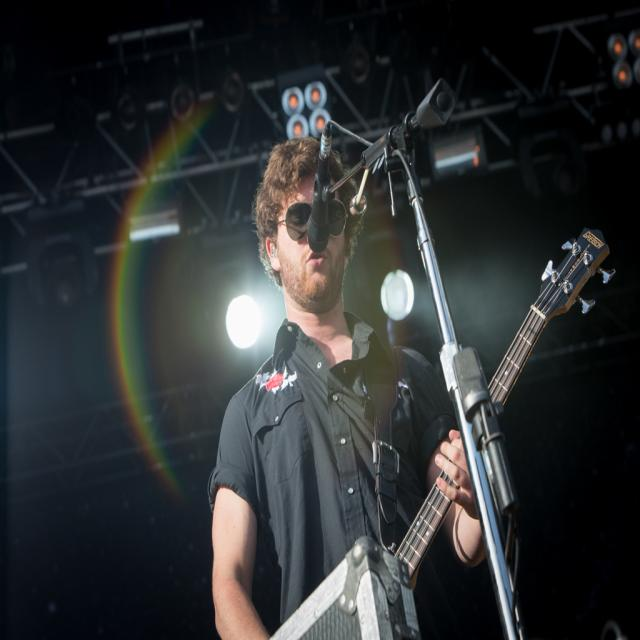Person: (209, 136, 486, 640)
